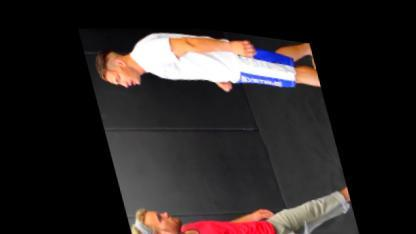knife: (281, 205, 315, 233)
